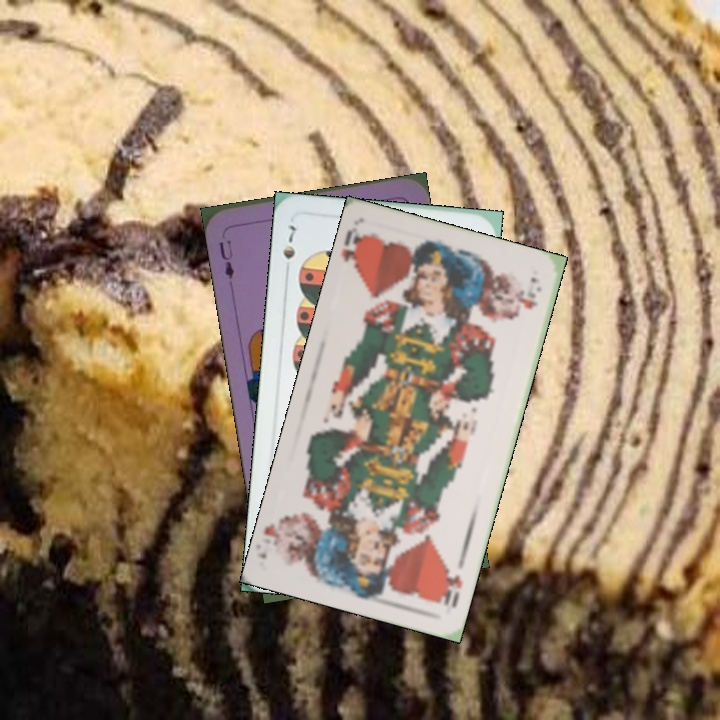EU: (215, 236, 237, 282)
HO: (338, 223, 371, 276), (434, 564, 465, 611)
S7: (279, 220, 299, 277)
